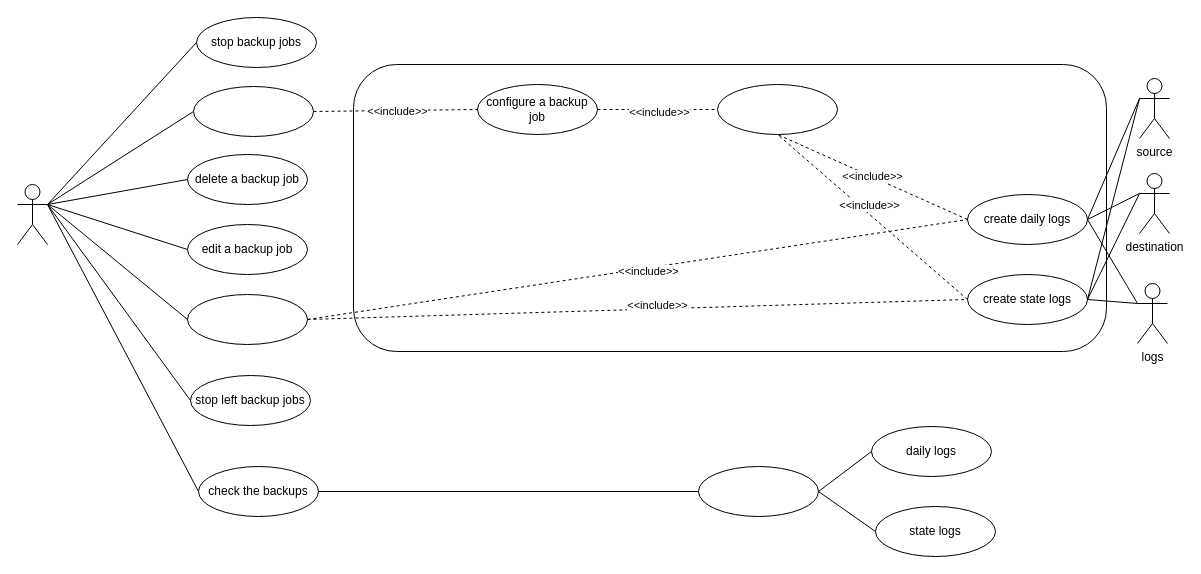
Some shapes in this 1201 by 574 pixel diagram are drawn without their labels. The shapes that lost their labels are listed below. From the top down, each one's box as (x1, y1, x2, y2) in pixels, then its label:
(192, 86, 314, 136): create a backup job
(716, 84, 838, 134): execute the job
(16, 184, 48, 244): user
(186, 294, 308, 344): execute left backup jobs
(698, 466, 818, 516): access to the logs
